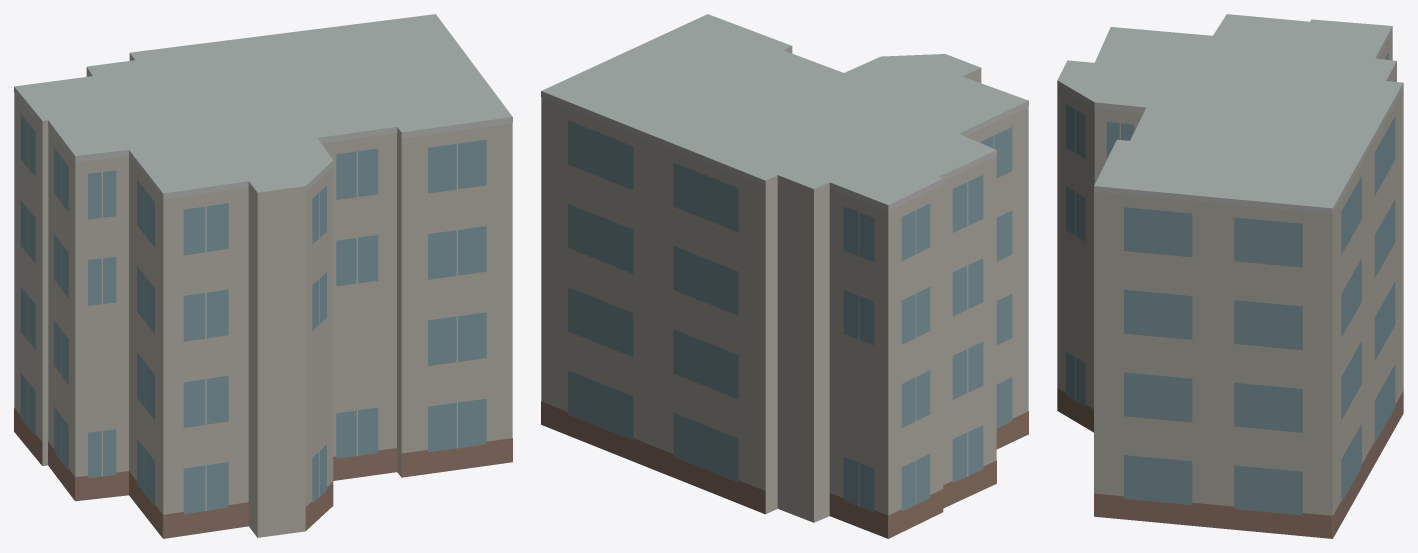
File: survey-upis-32803930.glb
3 views of the same model, side by side, from view 1: azimuth 30°, elevation 25°; view 2: azimuth 150°, elevation 25°; view 3: azimuth 270°, elevation 25° (orthographic). The views are drawn at different scales.
Visible parts, largest first — view 1: survey-upis-32803930.tmp; view 2: survey-upis-32803930.tmp; view 3: survey-upis-32803930.tmp.
Boxes of the visible parts, bbox=[...] form: survey-upis-32803930.tmp: bbox=[14, 14, 512, 538]; survey-upis-32803930.tmp: bbox=[541, 14, 1028, 538]; survey-upis-32803930.tmp: bbox=[1057, 14, 1403, 538].
Size of the model in its own units: 17.43 by 13.82 by 13.13.
